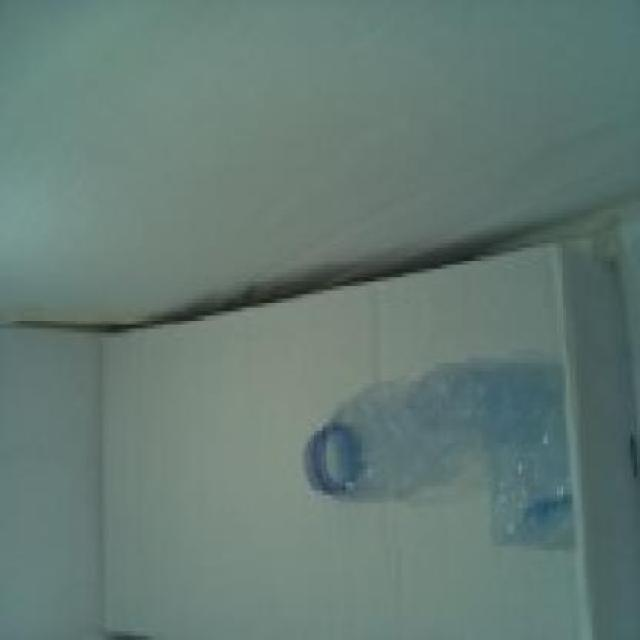Pet_Bottle: (293, 351, 579, 577)
